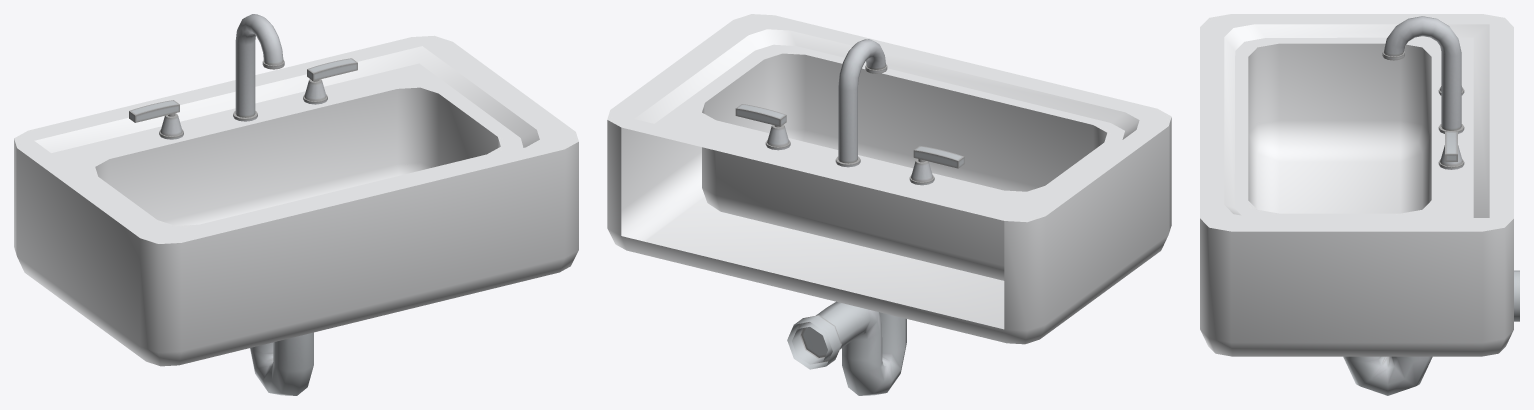
The model's file is bath-basin.glb.
3 renders of one model, left to right at view 1: azimuth 30°, elevation 25°; view 2: azimuth 150°, elevation 25°; view 3: azimuth 270°, elevation 25°, orthographic. The views are drawn at different scales.
Visible parts, largest first — view 1: Sink_A, Sink_A_Faucet_A, Sink_A_Faucet_B; view 2: Sink_A, Sink_A_Faucet_A, Sink_A_Faucet_B; view 3: Sink_A, Sink_A_Faucet_B.
Boxes of the visible parts, <box> form: Sink_A: <box>14,14,578,395</box>; Sink_A_Faucet_A: <box>129,100,179,122</box>; Sink_A_Faucet_B: <box>307,58,357,80</box>; Sink_A: <box>607,14,1171,395</box>; Sink_A_Faucet_A: <box>913,146,964,168</box>; Sink_A_Faucet_B: <box>735,104,786,126</box>; Sink_A: <box>1200,14,1519,395</box>; Sink_A_Faucet_B: <box>1445,132,1457,161</box>.
Size of the model in its own units: 0.41 by 0.3303 by 0.2546.
Materials: 1 (1 with a texture image).
